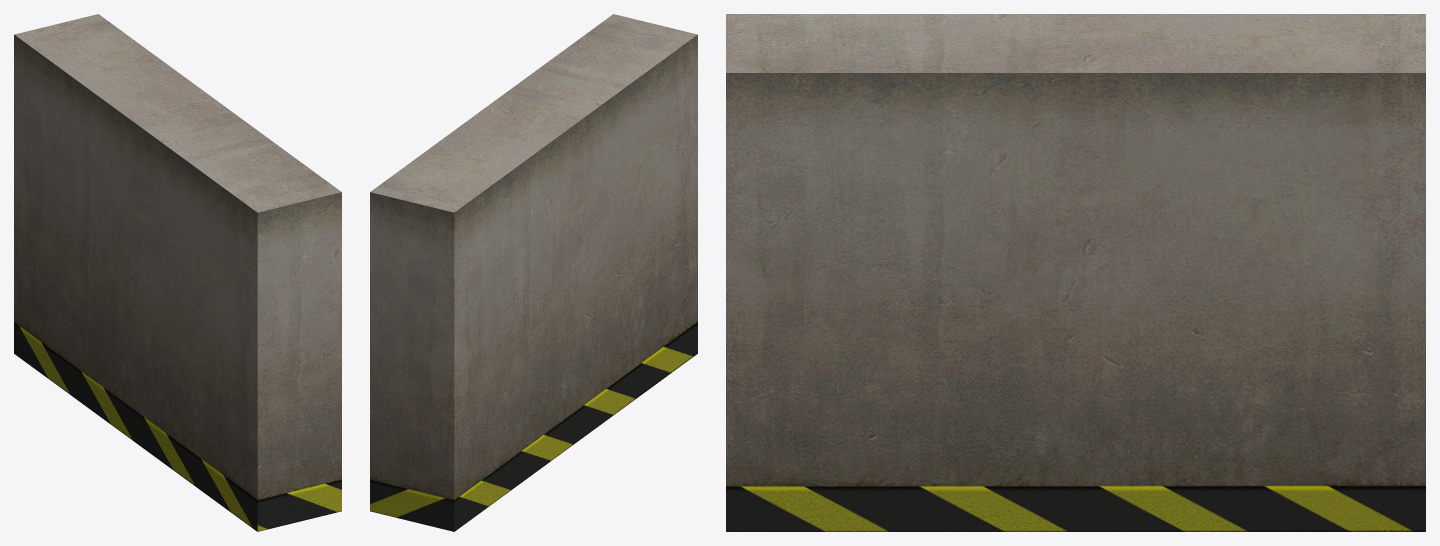
Rendered from aiqiang01.fbx.
The picture shows the model from 3 angles, left to right: view 1: azimuth 30°, elevation 25°; view 2: azimuth 150°, elevation 25°; view 3: azimuth 270°, elevation 25°; orthographic projection. The views are drawn at different scales.
Parts seen in each view (by area): view 1: aqiang01; view 2: aqiang01; view 3: aqiang01.
Boxes of the visible parts, x1,y1,x2,y2 form: aqiang01: [14, 14, 341, 531]; aqiang01: [370, 14, 697, 531]; aqiang01: [726, 14, 1425, 531].
Bounding box in the file's own units: 80 × 289 × 400.
